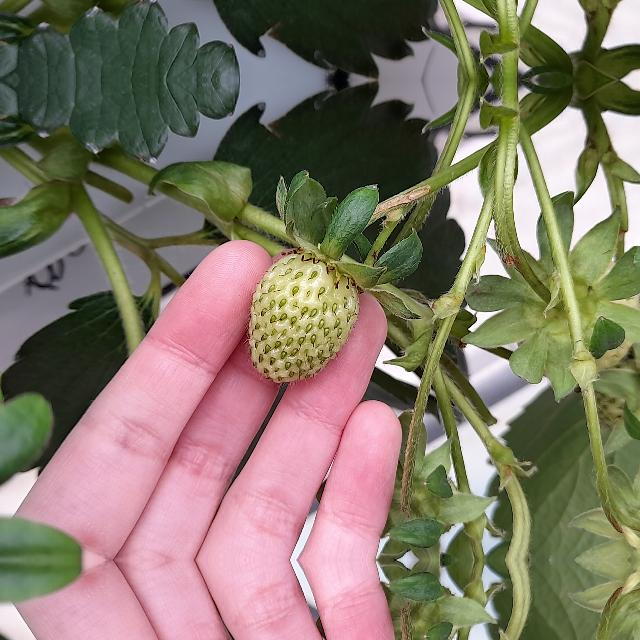Health_25: (248, 252, 358, 382)
